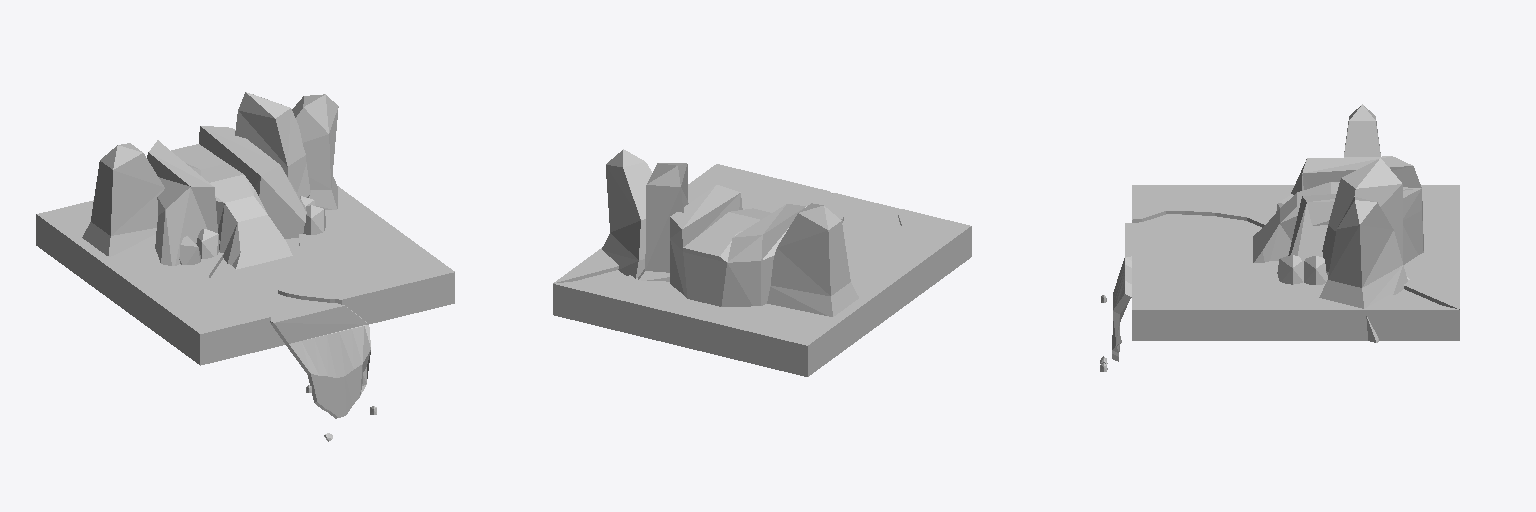
The model's file is Mountains.obj.
3 renders of one model, left to right at view 1: azimuth 30°, elevation 25°; view 2: azimuth 150°, elevation 25°; view 3: azimuth 270°, elevation 25°, orthographic.
Parts seen in each view (by area): view 1: Box001, Box002, Pyramid001, Pyramid002, Pyramid003, GeoSphere001, GeoSphere003; view 2: Box001, Box002, Pyramid001, Pyramid003, Pyramid002; view 3: Box001, Box002, Pyramid003, Pyramid002, Pyramid001, GeoSphere001, GeoSphere002.
Part boxes in pixels (x1,y1,x2,y2): Box001: (36,186,454,418); Box002: (147,126,306,269); Pyramid001: (82,143,164,256); Pyramid002: (235,92,310,197); Pyramid003: (292,94,338,209); GeoSphere001: (303,205,325,234); GeoSphere003: (196,229,219,258); Box001: (553,164,971,376); Box002: (670,185,806,306); Pyramid001: (767,203,858,316); Pyramid003: (602,149,651,278); Pyramid002: (638,163,688,281); Box001: (1112,185,1459,361); Box002: (1253,156,1423,267); Pyramid003: (1319,197,1407,342); Pyramid002: (1322,158,1409,279); Pyramid001: (1344,104,1380,156); GeoSphere001: (1277,255,1303,284); GeoSphere002: (1304,256,1327,284).
Size of the model in its own units: 121 by 104 by 145.